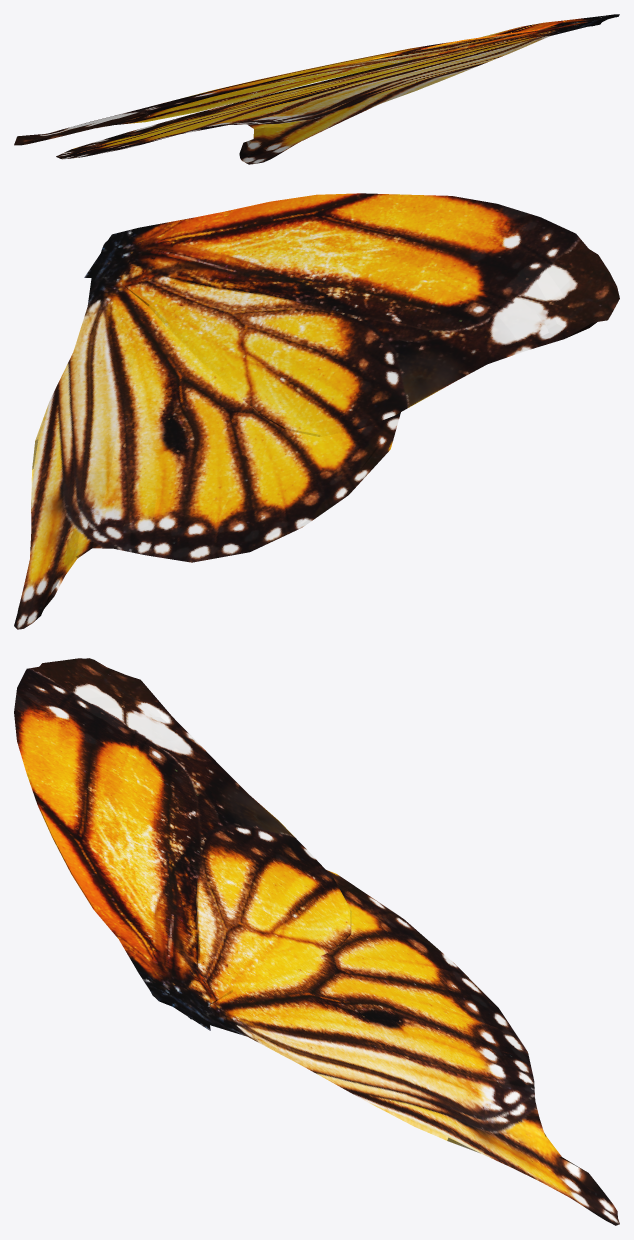
File: right_wing.obj
The picture shows the model from 3 angles, top to bottom: view 1: azimuth 30°, elevation 25°; view 2: azimuth 150°, elevation 25°; view 3: azimuth 270°, elevation 25°; orthographic projection. The views are drawn at different scales.
Parts seen in each view (by area): view 1: 2; view 2: 2; view 3: 2.
Part boxes in pixels (<box>): 2: <box>14,14,619,164</box>; 2: <box>14,193,619,629</box>; 2: <box>14,658,619,1225</box>.
Size of the model in its own units: 85 by 50.25 by 74.22.
1 material, 1 textured.
